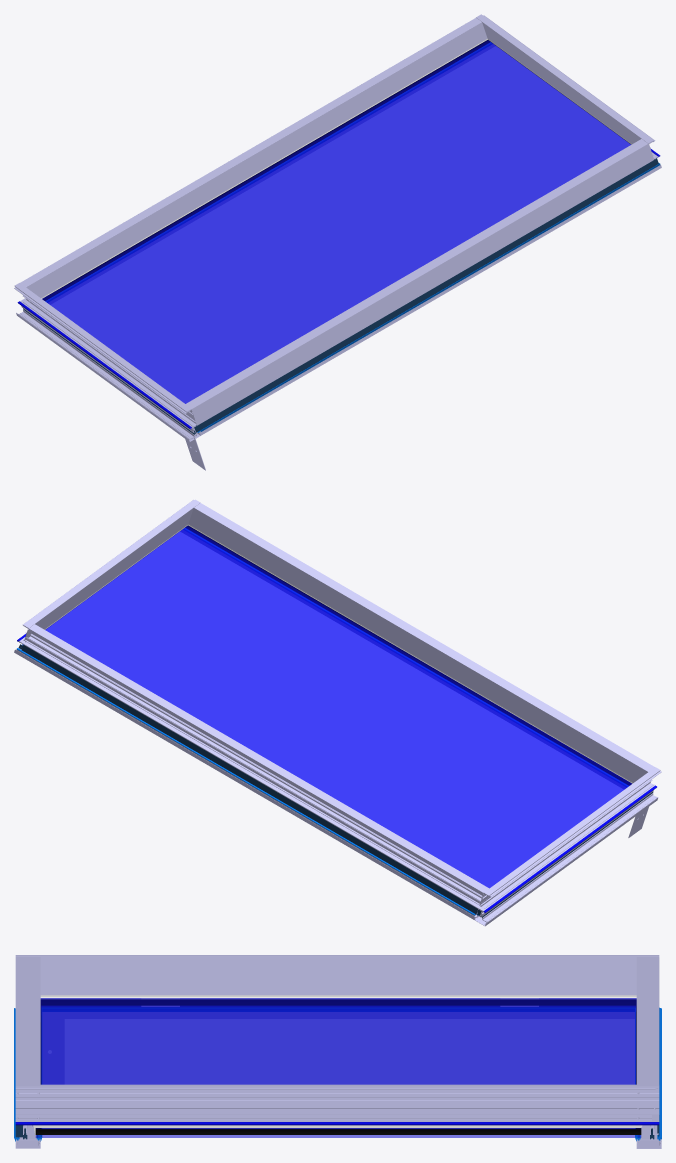
The model's file is Frame_A.obj.
3 views of the same model, one above another, from view 1: azimuth 30°, elevation 25°; view 2: azimuth 150°, elevation 25°; view 3: azimuth 270°, elevation 25° (orthographic). The views are drawn at different scales.
Visible parts, largest first — view 1: IG1_1-1, HM_X1O-40, HM_X1O-36, VM_X1M-32, VM_X1M-35, PF_X1O-41, PG_1-13, CP_D1O-43, PP_X1M-33, CP_D1O-39, GG_1-14, AS_1-9; view 2: IG1_1-1, HM_X1O-40, HM_X1O-36, VM_X1M-32, VM_X1M-35, TB_X1O-37, CP_D1O-39, PP_X1M-33, CP_D1O-43, PG_1-13, PG_1-12, GG_1-14 (+3 smaller); view 3: IG1_1-1, VM_X1M-32, VM_X1M-35, CP_X2M-34, HM_X1O-40, HM_X1O-36, AS_1-10, PG_1-8, GG_1-15, GG_1-14, MA08, TG_1-7 (+2 smaller).
Part boxes in pixels (left/top/right/bottom): IG1_1-1: left=42, top=40, right=631, bottom=403; HM_X1O-40: left=186, top=139, right=653, bottom=425; HM_X1O-36: left=20, top=18, right=487, bottom=298; VM_X1M-32: left=14, top=283, right=197, bottom=432; VM_X1M-35: left=476, top=14, right=659, bottom=159; PF_X1O-41: left=194, top=158, right=658, bottom=432; PG_1-13: left=45, top=42, right=660, bottom=431; CP_D1O-43: left=200, top=165, right=661, bottom=435; PP_X1M-33: left=18, top=310, right=199, bottom=439; CP_D1O-39: left=48, top=44, right=494, bottom=304; GG_1-14: left=41, top=38, right=631, bottom=298; AS_1-9: left=17, top=301, right=191, bottom=429; IG1_1-1: left=22, top=525, right=632, bottom=888; HM_X1O-40: left=188, top=503, right=654, bottom=782; HM_X1O-36: left=23, top=624, right=489, bottom=913; VM_X1M-32: left=478, top=767, right=661, bottom=916; VM_X1M-35: left=18, top=499, right=200, bottom=644; TB_X1O-37: left=22, top=645, right=477, bottom=914; CP_D1O-39: left=14, top=649, right=476, bottom=919; PP_X1M-33: left=477, top=793, right=657, bottom=922; CP_D1O-43: left=181, top=530, right=625, bottom=788; PG_1-13: left=22, top=528, right=628, bottom=786; PG_1-12: left=17, top=648, right=475, bottom=915; GG_1-14: left=44, top=524, right=632, bottom=783; IG1_1-1: left=35, top=998, right=641, bottom=1137; VM_X1M-32: left=15, top=955, right=659, bottom=999; VM_X1M-35: left=15, top=1084, right=659, bottom=1121; CP_X2M-34: left=43, top=1012, right=634, bottom=1018; HM_X1O-40: left=15, top=957, right=40, bottom=1134; HM_X1O-36: left=636, top=957, right=659, bottom=1134; AS_1-10: left=15, top=1122, right=659, bottom=1125; PG_1-8: left=42, top=1008, right=634, bottom=1011; GG_1-15: left=33, top=1125, right=642, bottom=1135; GG_1-14: left=40, top=995, right=636, bottom=997; MA08: left=43, top=1019, right=63, bottom=1083; TG_1-7: left=42, top=1006, right=635, bottom=1006.
Size of the model in its own units: 2671 by 1182 by 1682.
